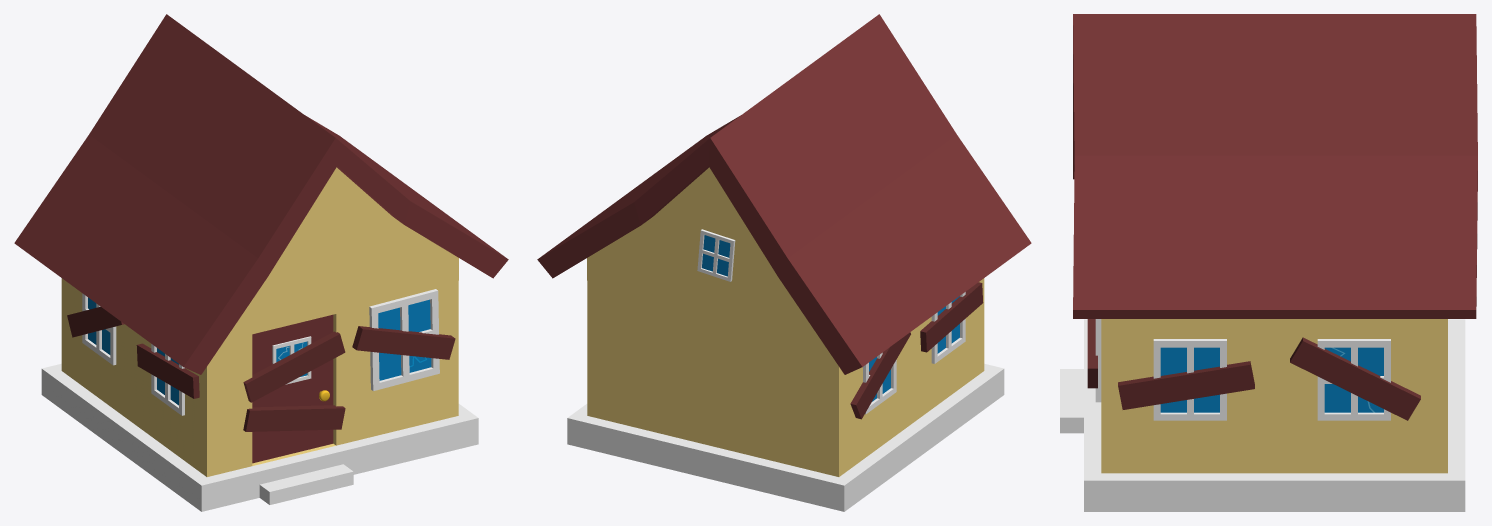
File: derelict_house.gltf
3 views of the same model, side by side, from view 1: azimuth 30°, elevation 25°; view 2: azimuth 150°, elevation 25°; view 3: azimuth 270°, elevation 25° (orthographic). The views are drawn at different scales.
Visible parts, largest first — view 1: Cube.481; view 2: Cube.481; view 3: Cube.481.
Part boxes in pixels (<box>): Cube.481: <box>14,14,508,511</box>; Cube.481: <box>537,14,1031,511</box>; Cube.481: <box>1060,14,1477,511</box>.
Size of the model in its own units: 1.9 by 1.94 by 1.77.
1 material, 1 textured.
